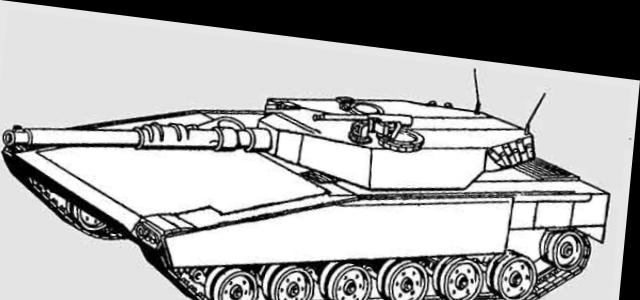tank: (0, 44, 619, 298)
